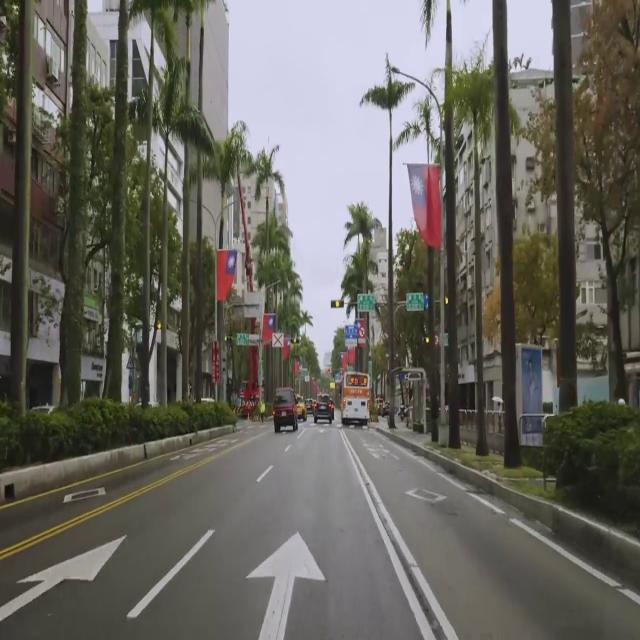yellow light: (330, 299, 344, 309), (290, 336, 300, 345)
